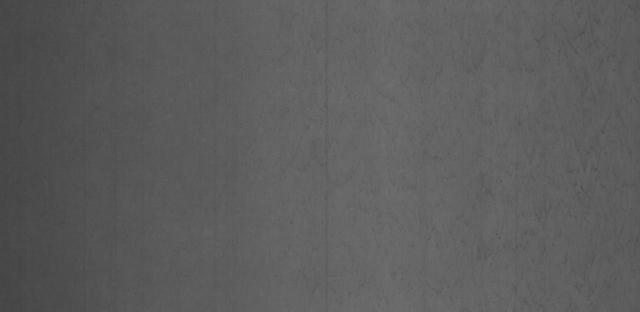silk_spot: (345, 10, 622, 294)
